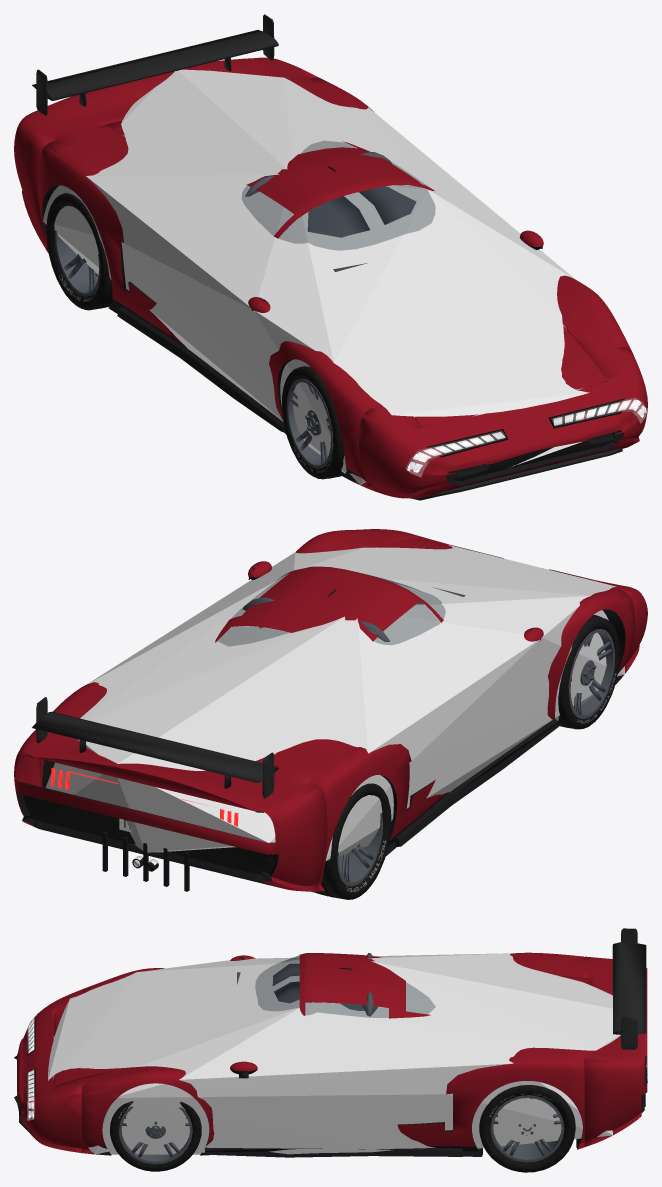
The model's file is noctra_sable_lod1.glb.
The picture shows the model from 3 angles, top to bottom: view 1: azimuth 30°, elevation 25°; view 2: azimuth 150°, elevation 25°; view 3: azimuth 270°, elevation 25°; orthographic projection. The views are drawn at different scales.
Parts seen in each view (by area): view 1: col_body, body, trim, glass, wheel_FR, wheel_RR, interior, lights_front, underbody; view 2: col_body, body, trim, wheel_FR, wheel_RR, glass, underbody, lights_rear; view 3: col_body, body, trim, wheel_RL, glass, wheel_FL, interior, lights_front.
Boxes of the visible parts, <box> form: col_body: <box>42,69,589,485</box>; body: <box>14,57,647,498</box>; trim: <box>32,14,625,500</box>; glass: <box>242,141,435,250</box>; wheel_FR: <box>282,366,344,479</box>; wheel_RR: <box>46,193,112,310</box>; interior: <box>245,152,416,271</box>; lights_front: <box>406,398,646,476</box>; underbody: <box>42,185,625,496</box>; col_body: <box>45,545,624,860</box>; body: <box>14,529,647,891</box>; trim: <box>32,547,590,891</box>; wheel_FR: <box>557,615,619,729</box>; wheel_RR: <box>312,783,391,899</box>; glass: <box>218,573,445,646</box>; underbody: <box>34,609,625,887</box>; lights_rear: <box>51,768,238,826</box>; col_body: <box>48,953,620,1154</box>; body: <box>14,952,647,1156</box>; trim: <box>19,928,646,1157</box>; wheel_RL: <box>479,1085,575,1172</box>; glass: <box>255,955,435,1017</box>; wheel_FL: <box>110,1101,201,1171</box>; interior: <box>237,953,378,1016</box>; lights_front: <box>27,1017,34,1120</box>.
Size of the model in its own units: 1.94 by 1.19 by 4.54.
Materials: 14 (3 with a texture image).
